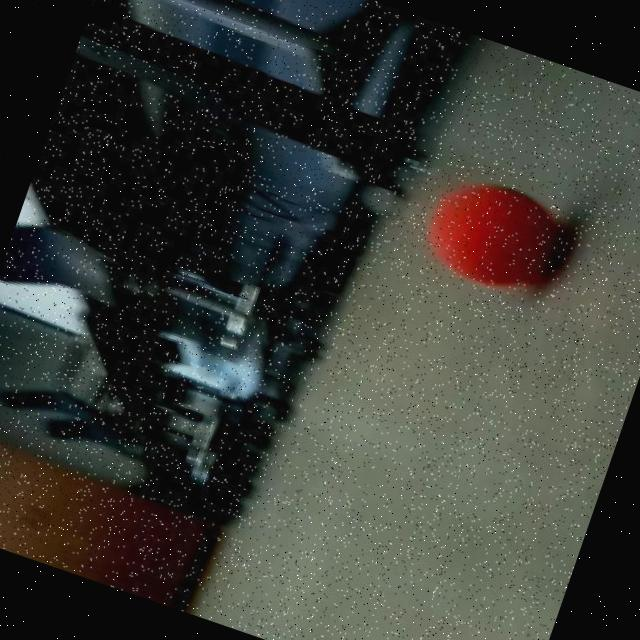ping-pong-ball: (410, 164, 570, 302)
